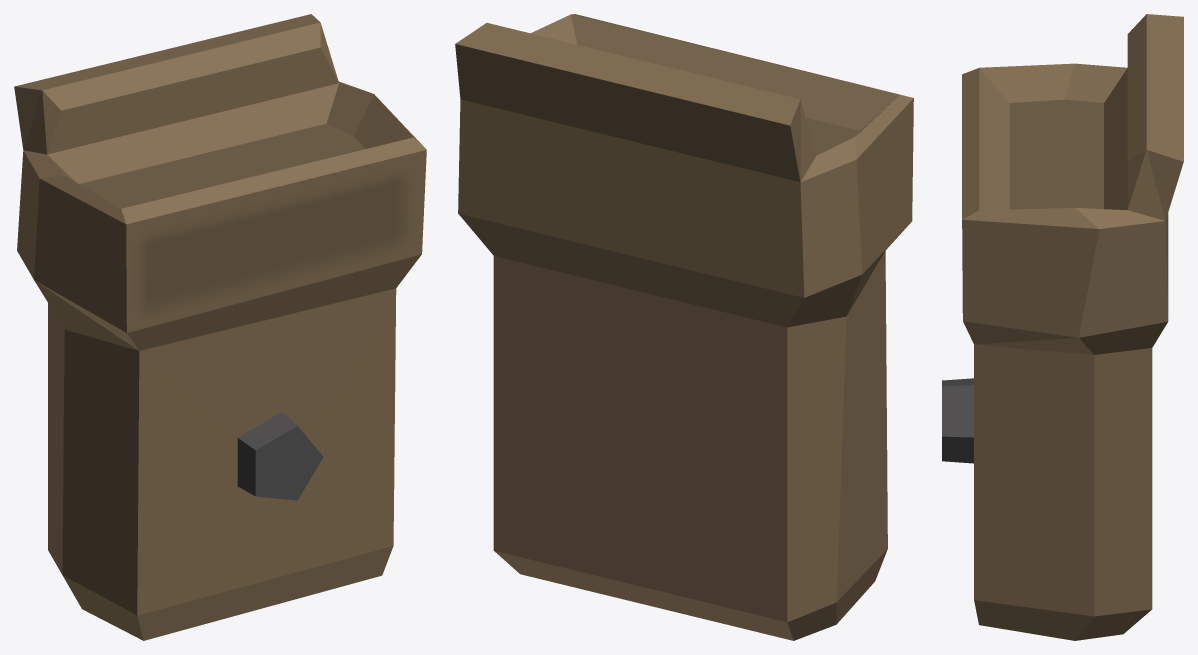
Rendered from SM_Chr_Attach_Pouch_WalkieTalkie_Empty_01.fbx.
3 renders of one model, left to right at view 1: azimuth 30°, elevation 25°; view 2: azimuth 150°, elevation 25°; view 3: azimuth 270°, elevation 25°, orthographic. The views are drawn at different scales.
Parts seen in each view (by area): view 1: SM_Chr_Attach_Pouch_WalkieTalkie_Empty_01; view 2: SM_Chr_Attach_Pouch_WalkieTalkie_Empty_01; view 3: SM_Chr_Attach_Pouch_WalkieTalkie_Empty_01.
Boxes of the visible parts, box(x1,y1,x2,y2) form: SM_Chr_Attach_Pouch_WalkieTalkie_Empty_01: box(14, 14, 426, 640); SM_Chr_Attach_Pouch_WalkieTalkie_Empty_01: box(455, 14, 913, 640); SM_Chr_Attach_Pouch_WalkieTalkie_Empty_01: box(942, 14, 1183, 640).
Size of the model in its own units: 10.53 by 14.58 by 6.47.
